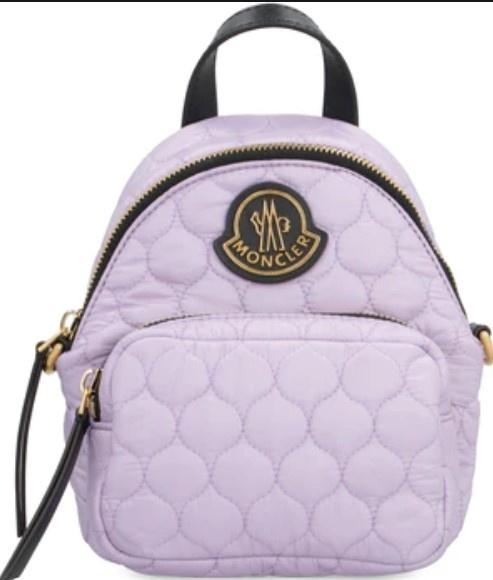MONCLER: (212, 180, 328, 285)
